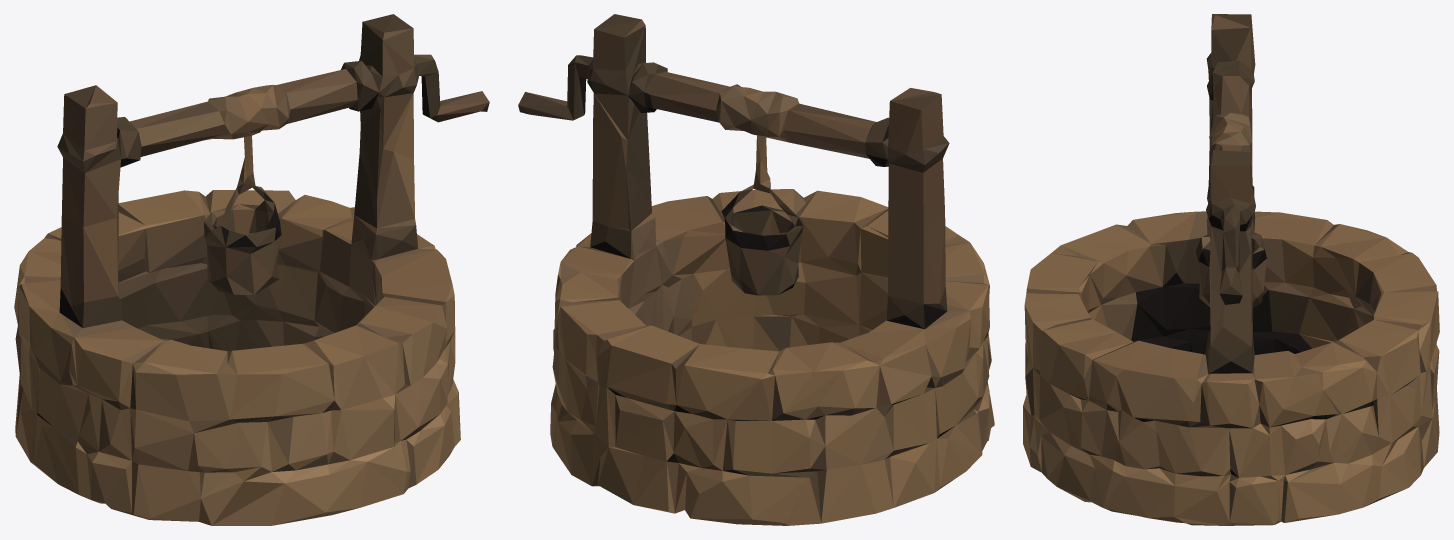
File: dry-well.glb
The picture shows the model from 3 angles, left to right: view 1: azimuth 30°, elevation 25°; view 2: azimuth 150°, elevation 25°; view 3: azimuth 270°, elevation 25°; orthographic projection. The views are drawn at different scales.
Visible parts, largest first — view 1: dry-well; view 2: dry-well; view 3: dry-well.
Part boxes in pixels (<box>): dry-well: <box>14,14,489,525</box>; dry-well: <box>518,14,994,525</box>; dry-well: <box>1023,14,1439,525</box>.
Size of the model in its own units: 2.91 by 2.39 by 2.55.
